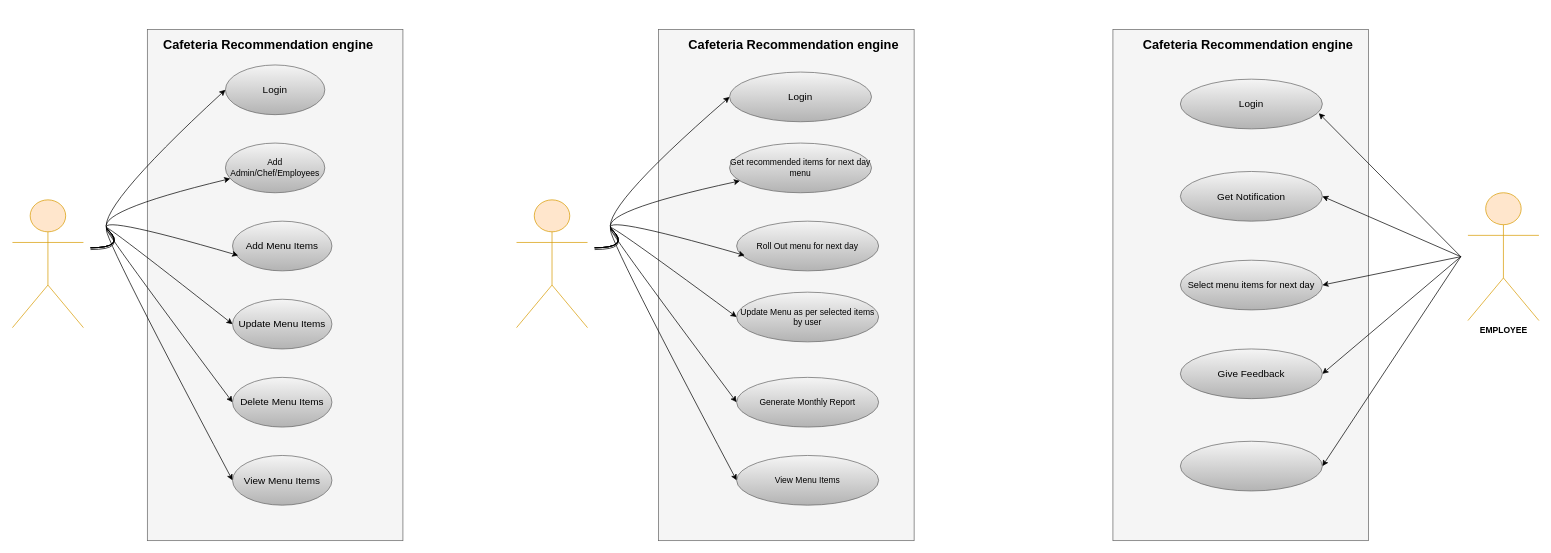
This 1551x553 diagram has some shape labels left out. Each missing label, with the box of its shape:
ADMIN: (12, 199, 83, 328)
CHEF: (516, 199, 588, 328)
View Menu: (1180, 441, 1322, 491)
